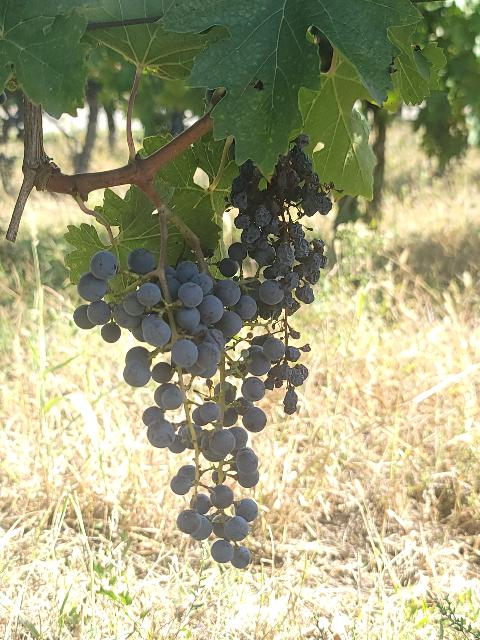grapes: (74, 249, 269, 569), (229, 135, 331, 320)
